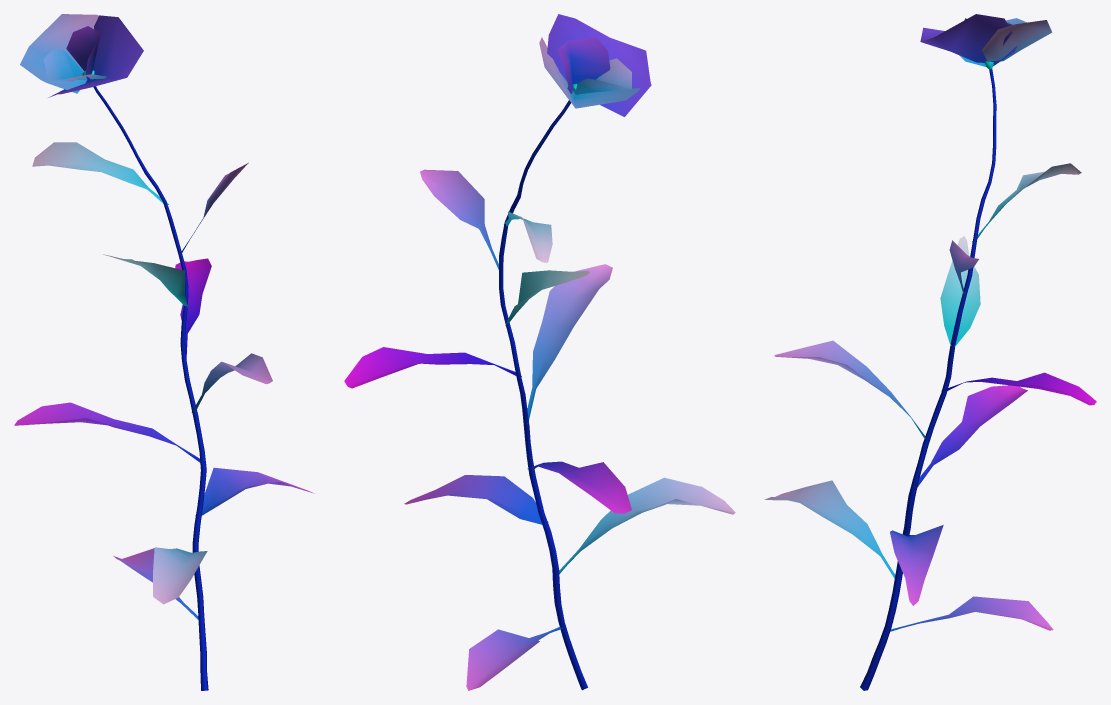
The model's file is vmcobd0ja_VarA_LOD0.fbx.
3 renders of one model, left to right at view 1: azimuth 30°, elevation 25°; view 2: azimuth 150°, elevation 25°; view 3: azimuth 270°, elevation 25°, orthographic. The views are drawn at different scales.
Parts seen in each view (by area): view 1: _9spz_VarA_LOD1; view 2: _9spz_VarA_LOD1; view 3: _9spz_VarA_LOD1.
Boxes of the visible parts, x1,y1,x2,y2 form: _9spz_VarA_LOD1: (14, 14, 314, 690); _9spz_VarA_LOD1: (344, 14, 735, 690); _9spz_VarA_LOD1: (764, 14, 1096, 690).
Bounding box in the file's own units: 26.61 × 64.97 × 29.7.
